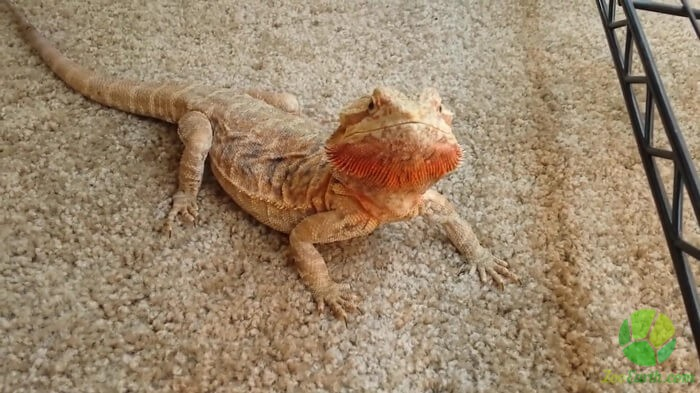bearded: (2, 1, 516, 324)
